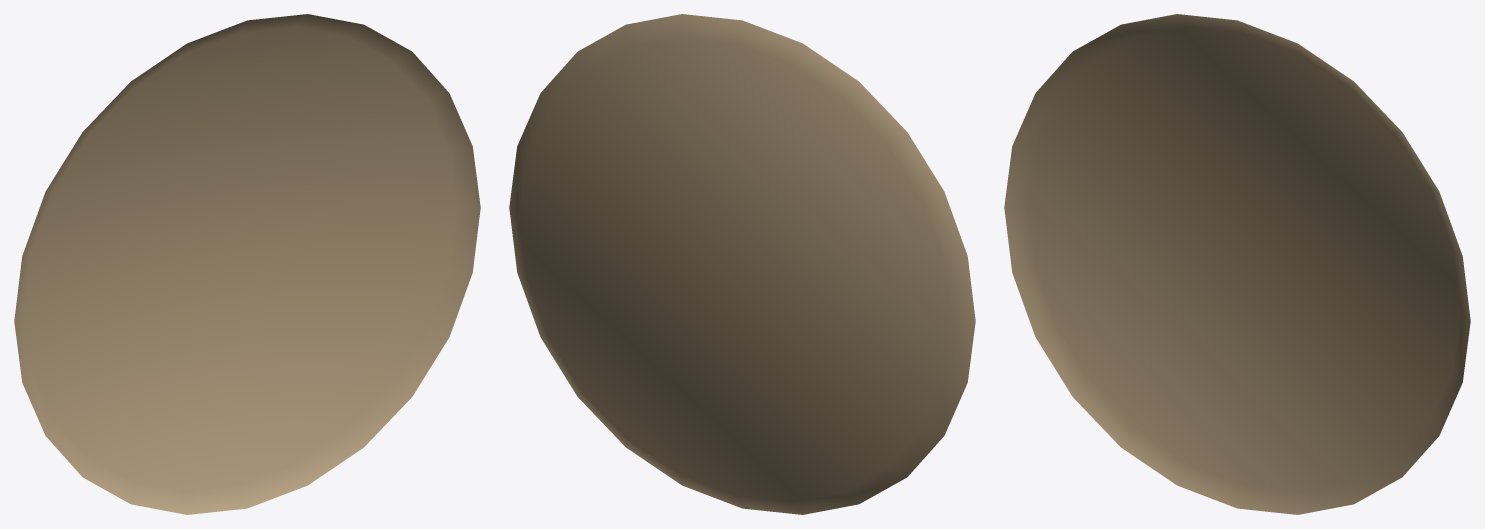
File: Wall Shield Style.glb
The picture shows the model from 3 angles, left to right: view 1: azimuth 30°, elevation 25°; view 2: azimuth 150°, elevation 25°; view 3: azimuth 330°, elevation 25°; orthographic projection.
Parts seen in each view (by area): view 1: Wall Shield Style; view 2: Wall Shield Style; view 3: Wall Shield Style.
Part boxes in pixels (left/top/right/bottom): Wall Shield Style: left=14, top=14, right=480, bottom=514; Wall Shield Style: left=509, top=14, right=975, bottom=514; Wall Shield Style: left=1004, top=14, right=1470, bottom=514.
Bounding box in the file's own units: 0.3471 × 0.3471 × 0.00913.
